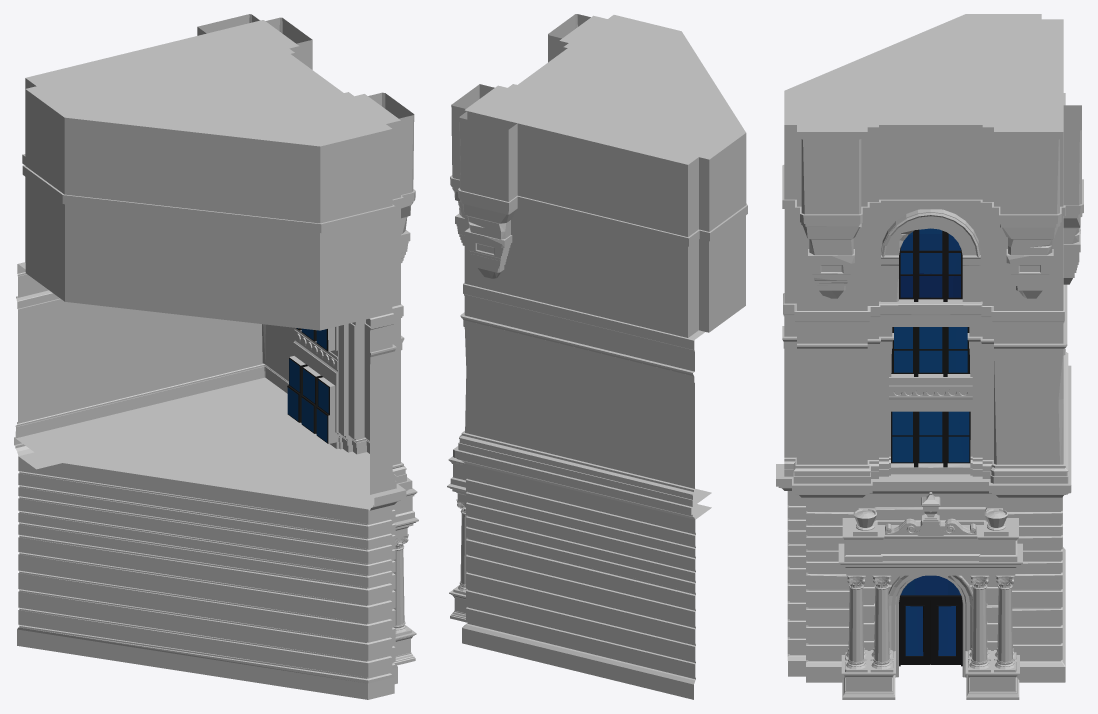
File: Building_Brick02.fbx
The picture shows the model from 3 angles, left to right: view 1: azimuth 30°, elevation 25°; view 2: azimuth 150°, elevation 25°; view 3: azimuth 270°, elevation 25°; orthographic projection. The views are drawn at different scales.
Parts seen in each view (by area): view 1: SM_City_Building_Brick_02.mo; view 2: SM_City_Building_Brick_02.mo; view 3: SM_City_Building_Brick_02.mo.
Part boxes in pixels (x1,y1,x2,y2): SM_City_Building_Brick_02.mo: (14,14,418,699); SM_City_Building_Brick_02.mo: (447,14,747,699); SM_City_Building_Brick_02.mo: (776,14,1083,699).
Size of the model in its own units: 985 by 1828 by 927.
